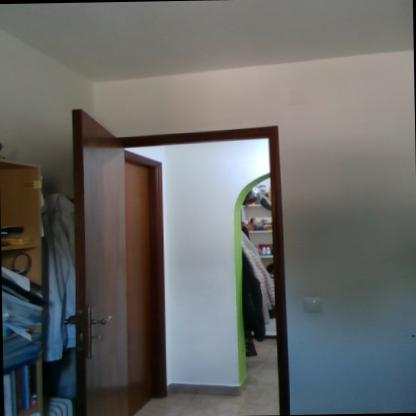open: (103, 104, 300, 412)
